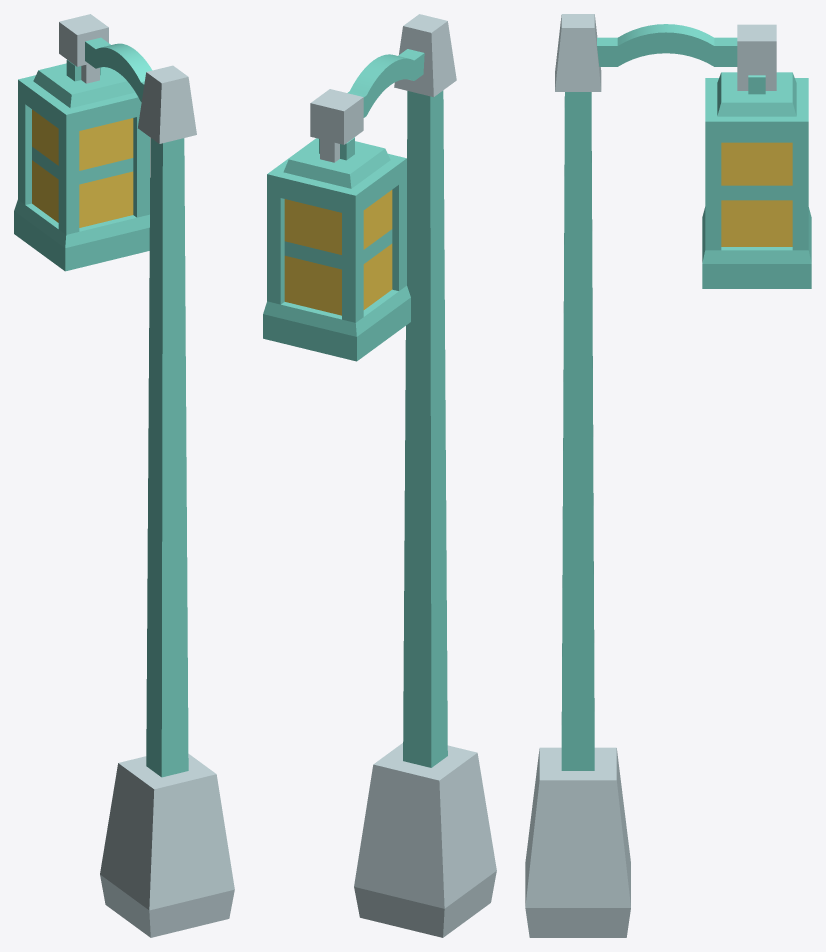
File: lightpostSingle.glb
The picture shows the model from 3 angles, left to right: view 1: azimuth 30°, elevation 25°; view 2: azimuth 150°, elevation 25°; view 3: azimuth 270°, elevation 25°; orthographic projection. The views are drawn at different scales.
Parts seen in each view (by area): view 1: lightpostSingle; view 2: lightpostSingle; view 3: lightpostSingle.
Part boxes in pixels (x1,y1,x2,y2): lightpostSingle: [14, 14, 234, 937]; lightpostSingle: [263, 14, 496, 937]; lightpostSingle: [525, 14, 811, 937].
Size of the model in its own units: 0.1459 by 1.32 by 0.3818.
